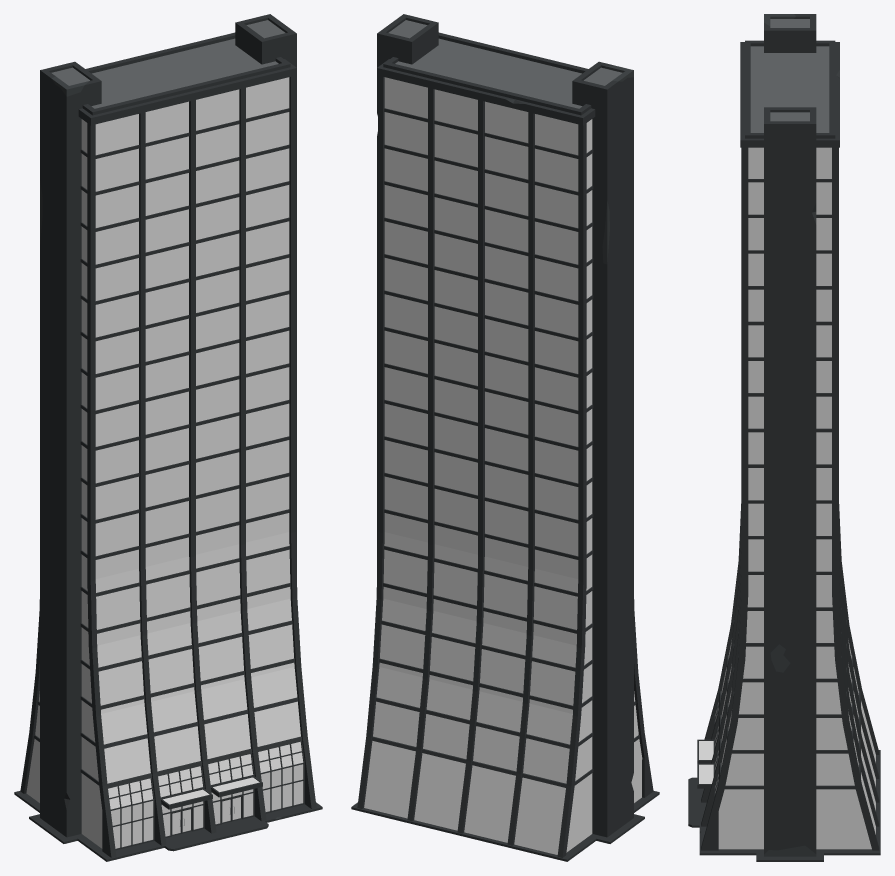
File: SM_Bldg_City_High-Rise_Modern_Static_03.fbx
3 renders of one model, left to right at view 1: azimuth 30°, elevation 25°; view 2: azimuth 150°, elevation 25°; view 3: azimuth 270°, elevation 25°, orthographic. The views are drawn at different scales.
Visible parts, largest first — view 1: SM_Bldg_City_High-Rise_Modern_Static_03; view 2: SM_Bldg_City_High-Rise_Modern_Static_03; view 3: SM_Bldg_City_High-Rise_Modern_Static_03.
Part boxes in pixels (bbox=[...]): SM_Bldg_City_High-Rise_Modern_Static_03: bbox=[14, 14, 322, 861]; SM_Bldg_City_High-Rise_Modern_Static_03: bbox=[351, 14, 659, 861]; SM_Bldg_City_High-Rise_Modern_Static_03: bbox=[688, 14, 880, 861].
Size of the model in its own units: 24.4 by 71.6 by 17.
